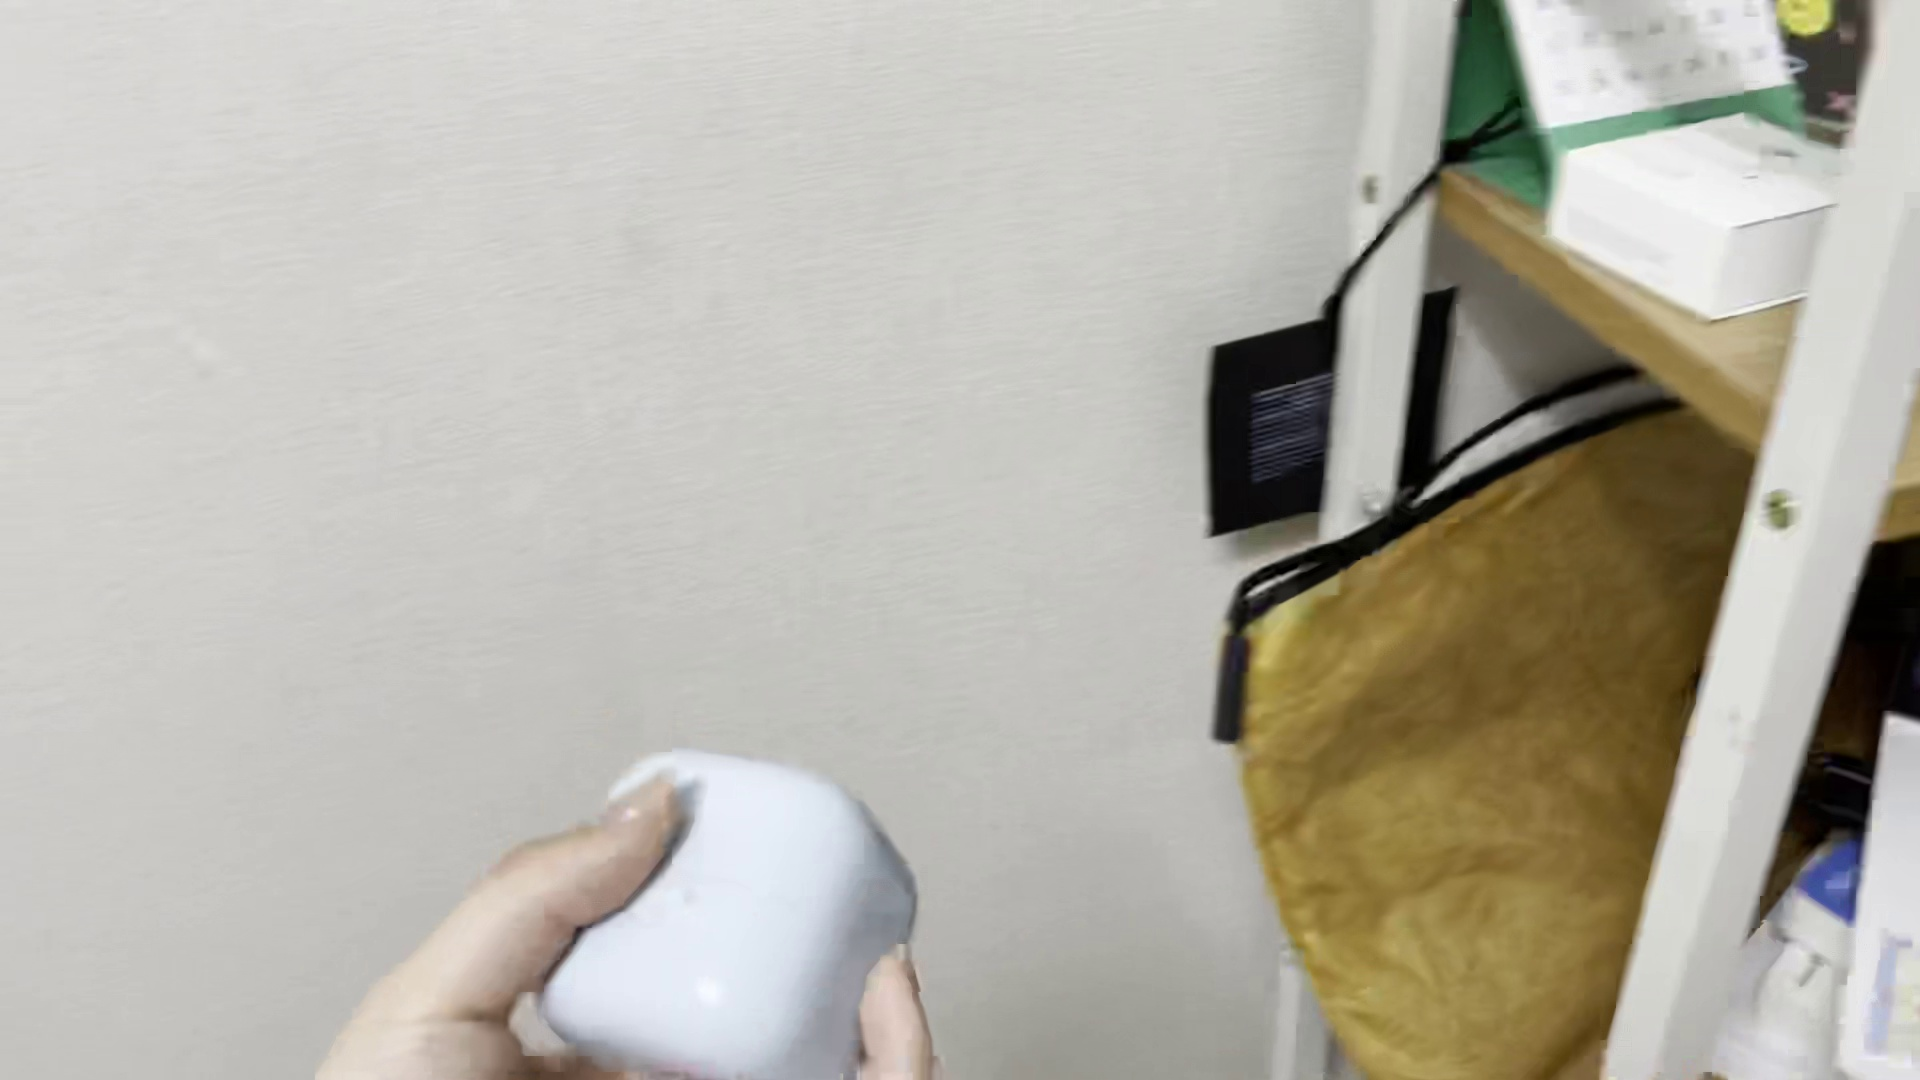cream: (564, 748, 922, 1080)
